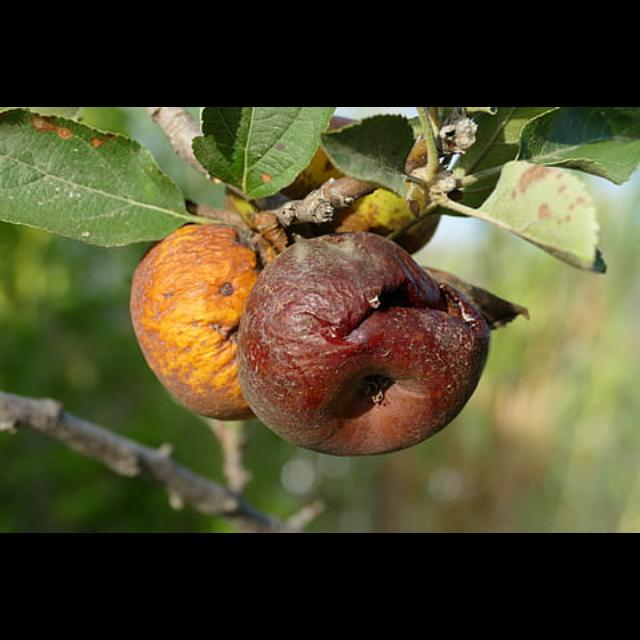Apel Tidak Segar: (249, 226, 527, 468), (110, 212, 276, 430)
